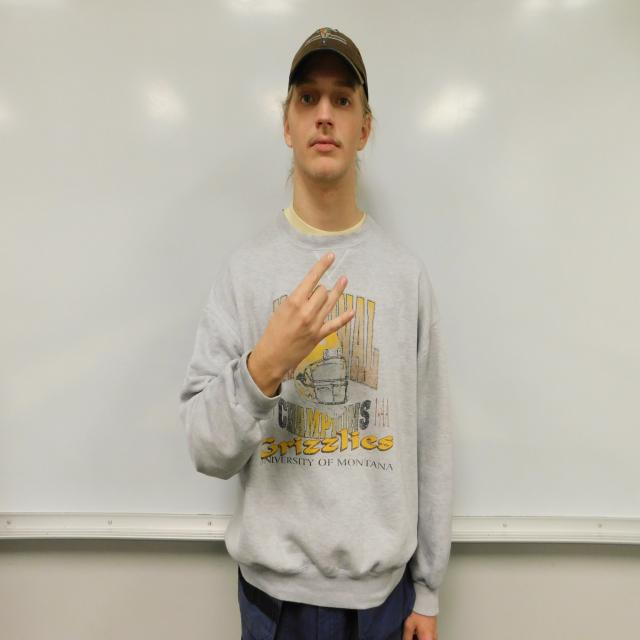like: (265, 251, 355, 361)
